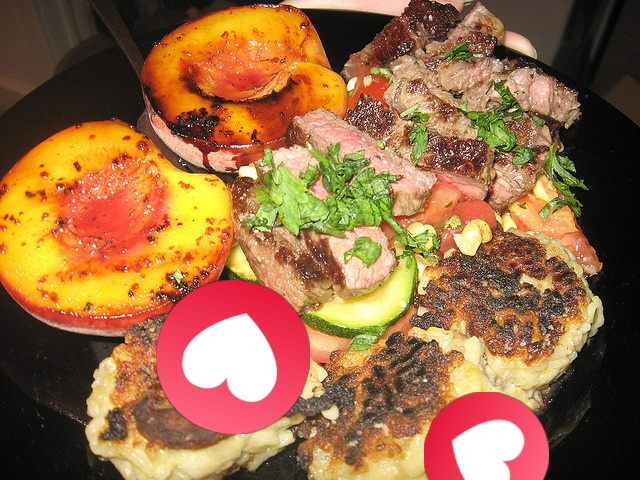love: (156, 280, 310, 434), (424, 392, 549, 480)
